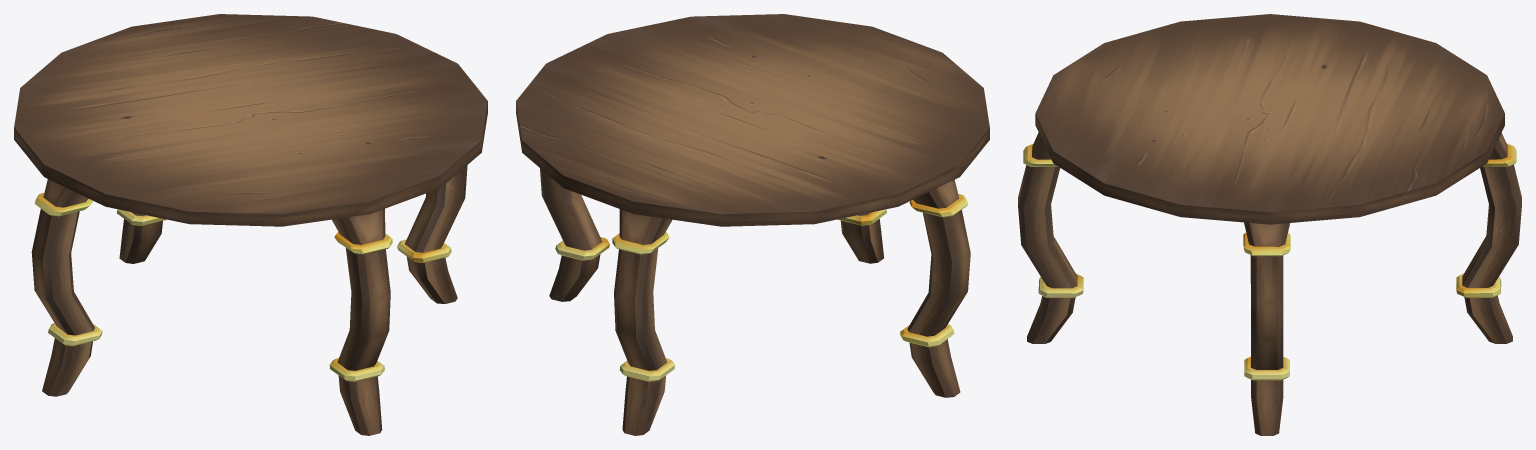
Rendered from Table Two.fbx.
The picture shows the model from 3 angles, left to right: view 1: azimuth 30°, elevation 25°; view 2: azimuth 150°, elevation 25°; view 3: azimuth 270°, elevation 25°; orthographic projection.
Parts seen in each view (by area): view 1: Table_2, Poot1, Poot4, Poot2, Poot3; view 2: Table_2, Poot3, Poot4, Poot2, Poot1; view 3: Table_2, Poot2, Poot1, Poot3.
Boxes of the visible parts, x1,y1,x2,y2 form: Table_2: (14, 14, 487, 226); Poot1: (329, 209, 392, 435); Poot4: (31, 179, 102, 396); Poot2: (397, 165, 467, 303); Poot3: (116, 209, 166, 263); Table_2: (516, 14, 989, 226); Poot3: (612, 209, 674, 435); Poot4: (900, 180, 970, 397); Poot2: (540, 168, 609, 301); Poot1: (837, 209, 886, 263); Table_2: (1035, 14, 1504, 224); Poot2: (1243, 222, 1290, 435); Poot1: (1018, 132, 1083, 343); Poot3: (1456, 133, 1521, 343).
Bounding box in the file's own units: 14.78 × 7.67 × 15.51.
